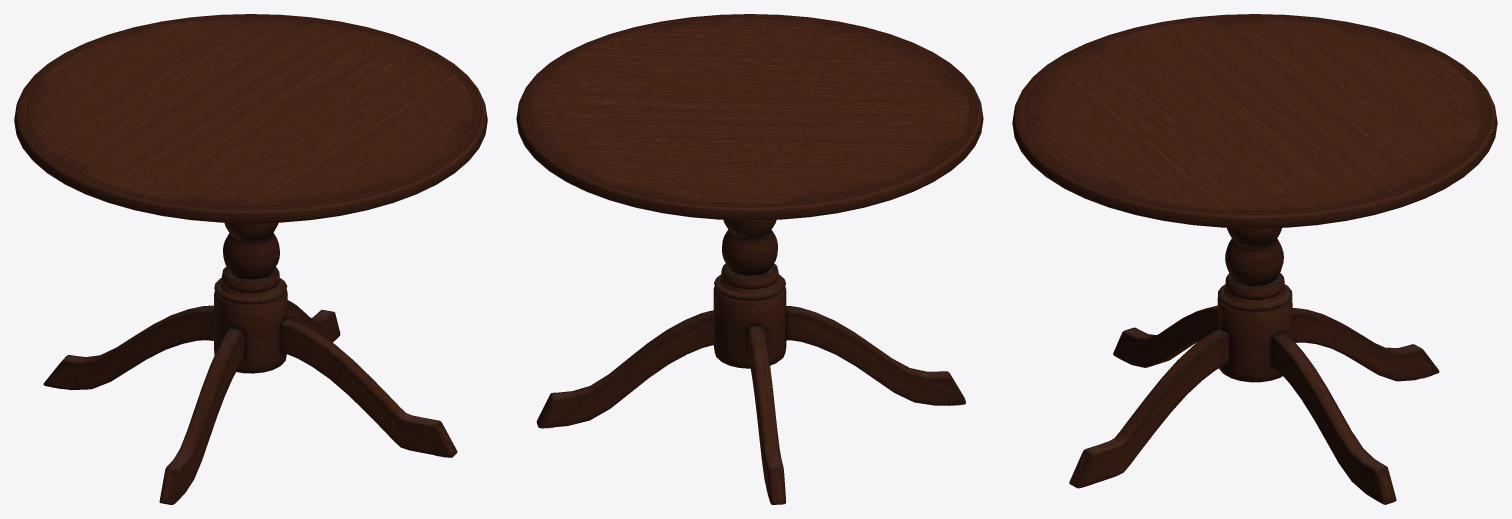
File: round_wooden_table_01.glb
The picture shows the model from 3 angles, left to right: view 1: azimuth 30°, elevation 25°; view 2: azimuth 150°, elevation 25°; view 3: azimuth 270°, elevation 25°; orthographic projection. The views are drawn at different scales.
Parts seen in each view (by area): view 1: round_wooden_table_01; view 2: round_wooden_table_01; view 3: round_wooden_table_01.
Part boxes in pixels (x1,y1,x2,y2): round_wooden_table_01: (14, 14, 487, 504); round_wooden_table_01: (516, 14, 983, 504); round_wooden_table_01: (1012, 14, 1497, 504).
Bounding box in the file's own units: 1.4 × 1 × 1.4.
1 material, 1 textured.
